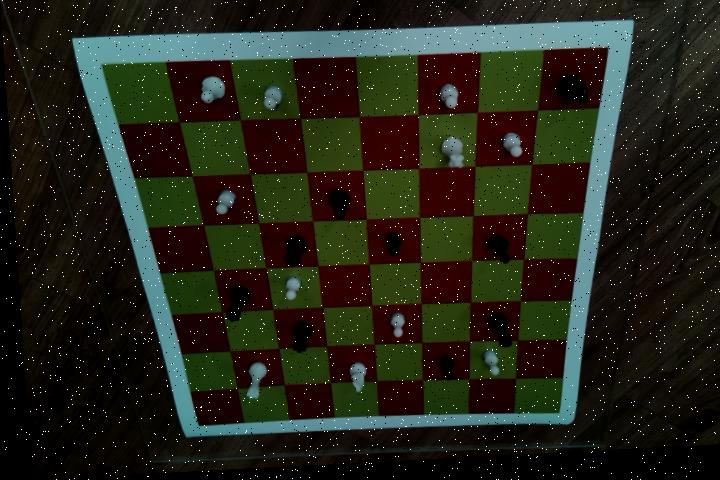chessboard-detect: (101, 56, 609, 428)
